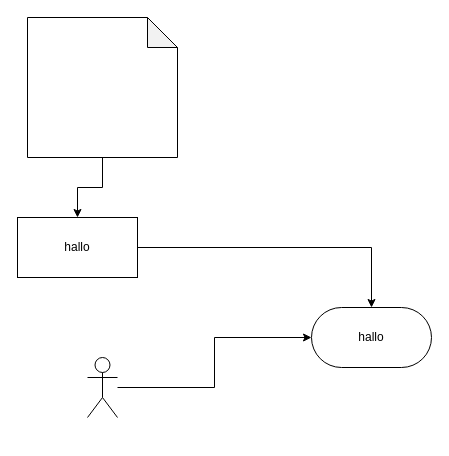
Image size: 449x456. Some labels were removed from this diagram. The shapes that lost their labels are listed below. From the top down, each one's centre as x and y in pixels, then its label:
At point (102, 87): "test hghgh hjhjhjh test and go".
At point (102, 387): "Dummy".
